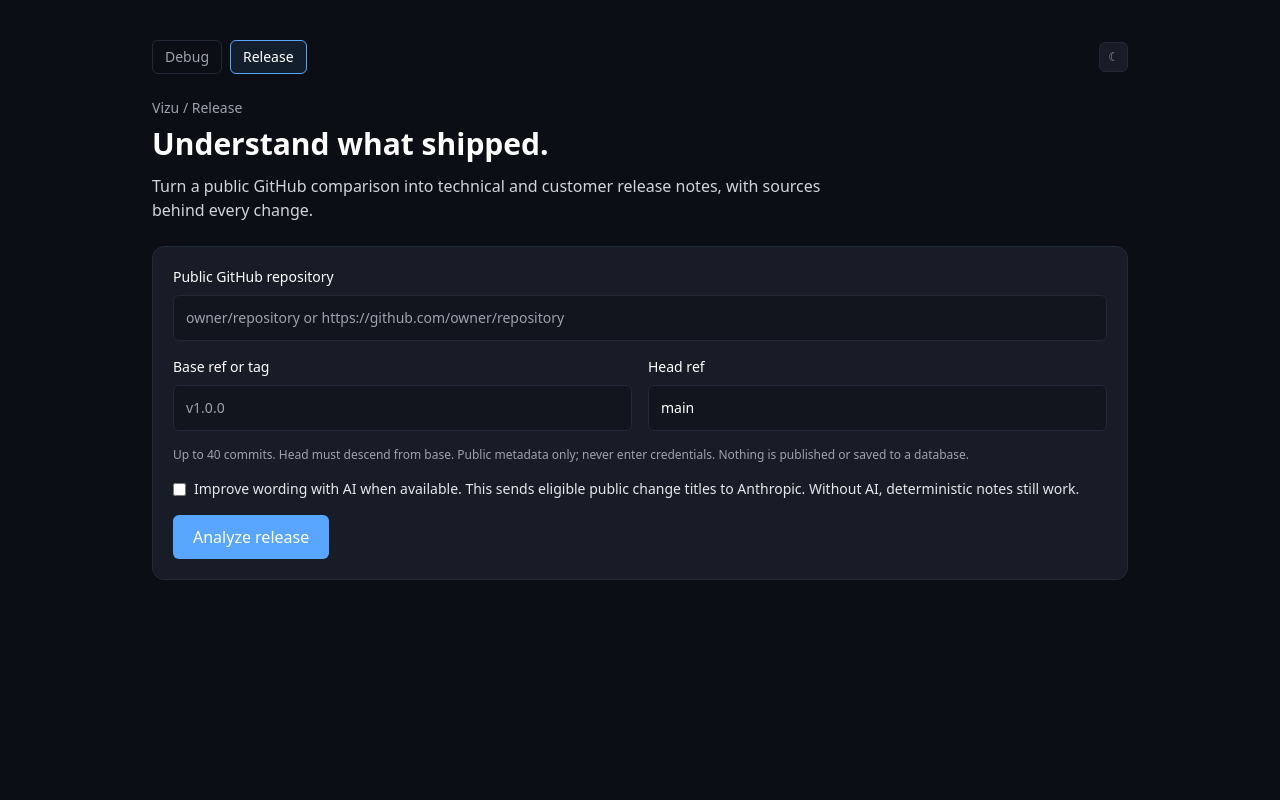
Test: Release interface › hides security details, surfaces warnings, and renders untrusted titles as text
This screenshot has width=1280, height=800.
In the field labelled "Public GitHub repository": (640, 318) [173, 295, 1107, 341], type "example/project"
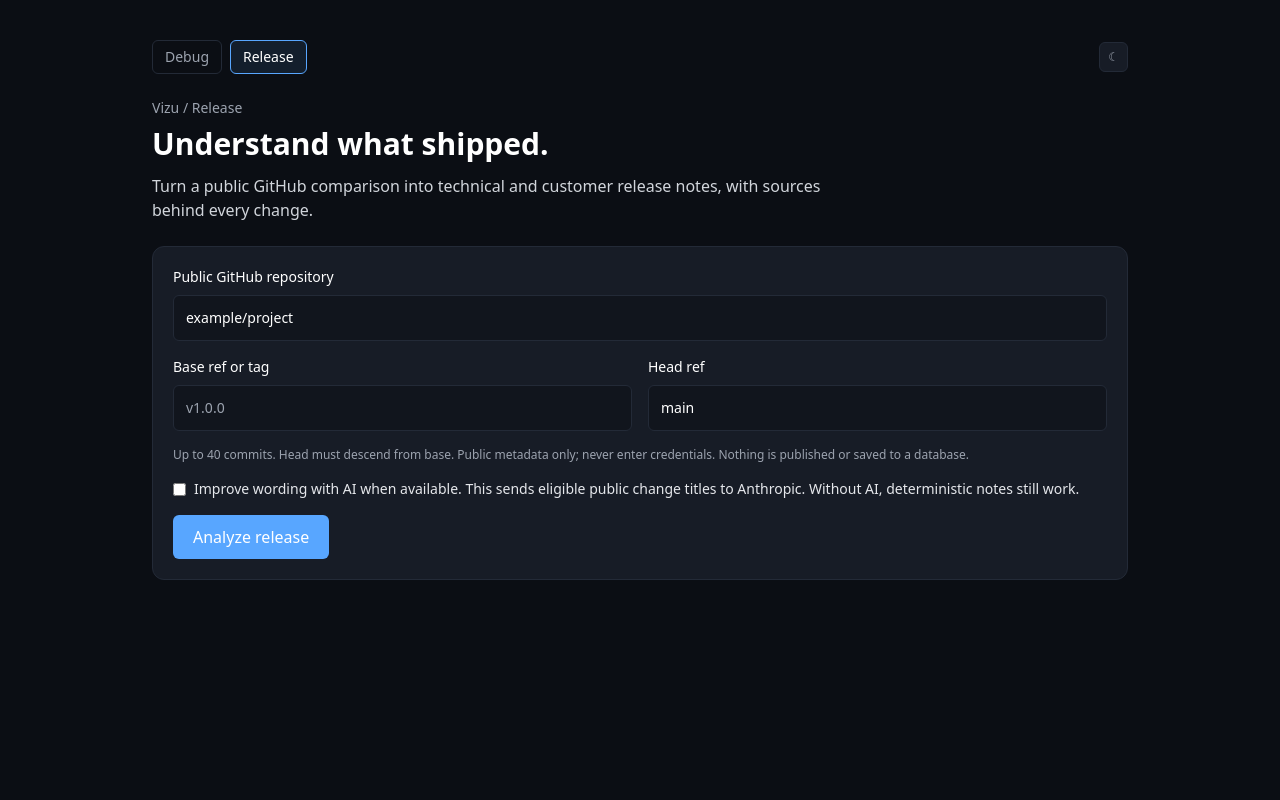
In the field labelled "Base ref or tag": (402, 408) [173, 385, 632, 431], type "v1"
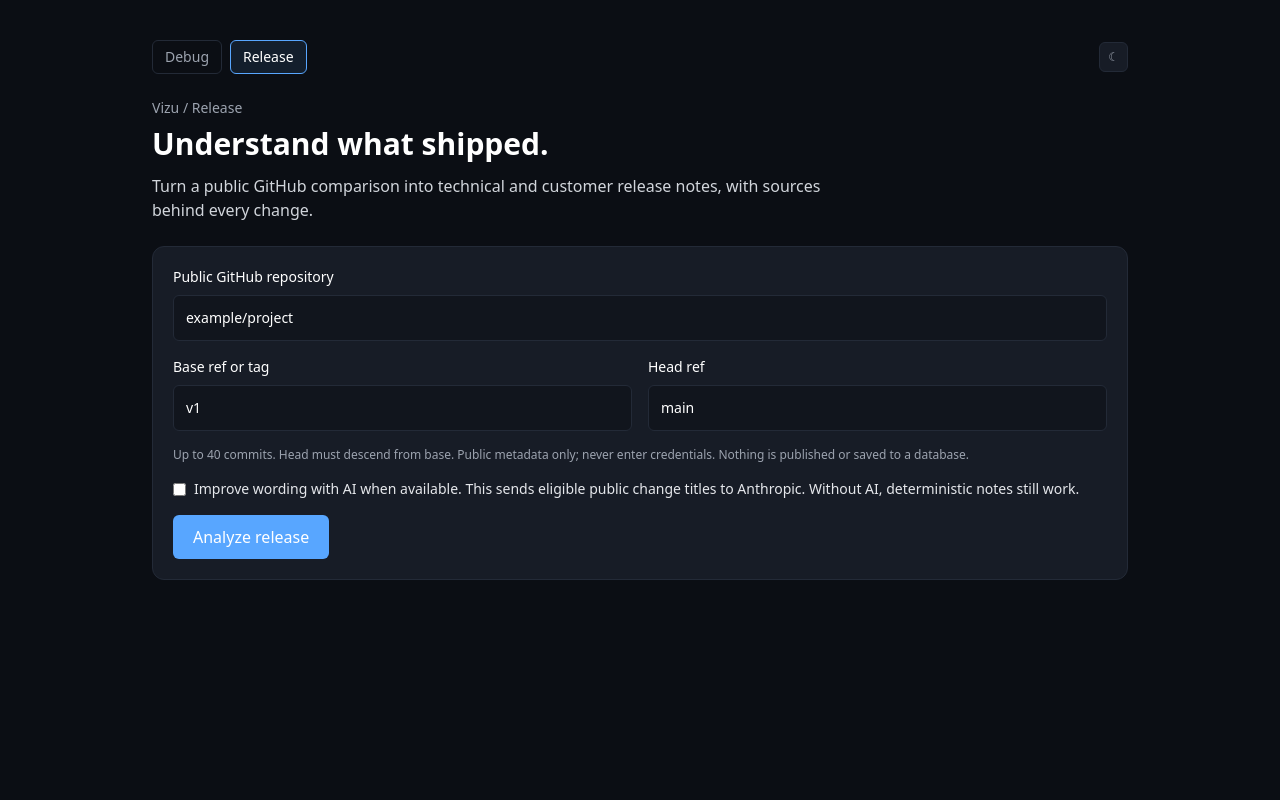
Click the button "Analyze release": (251, 537) [173, 515, 329, 559]
(page scrolled)
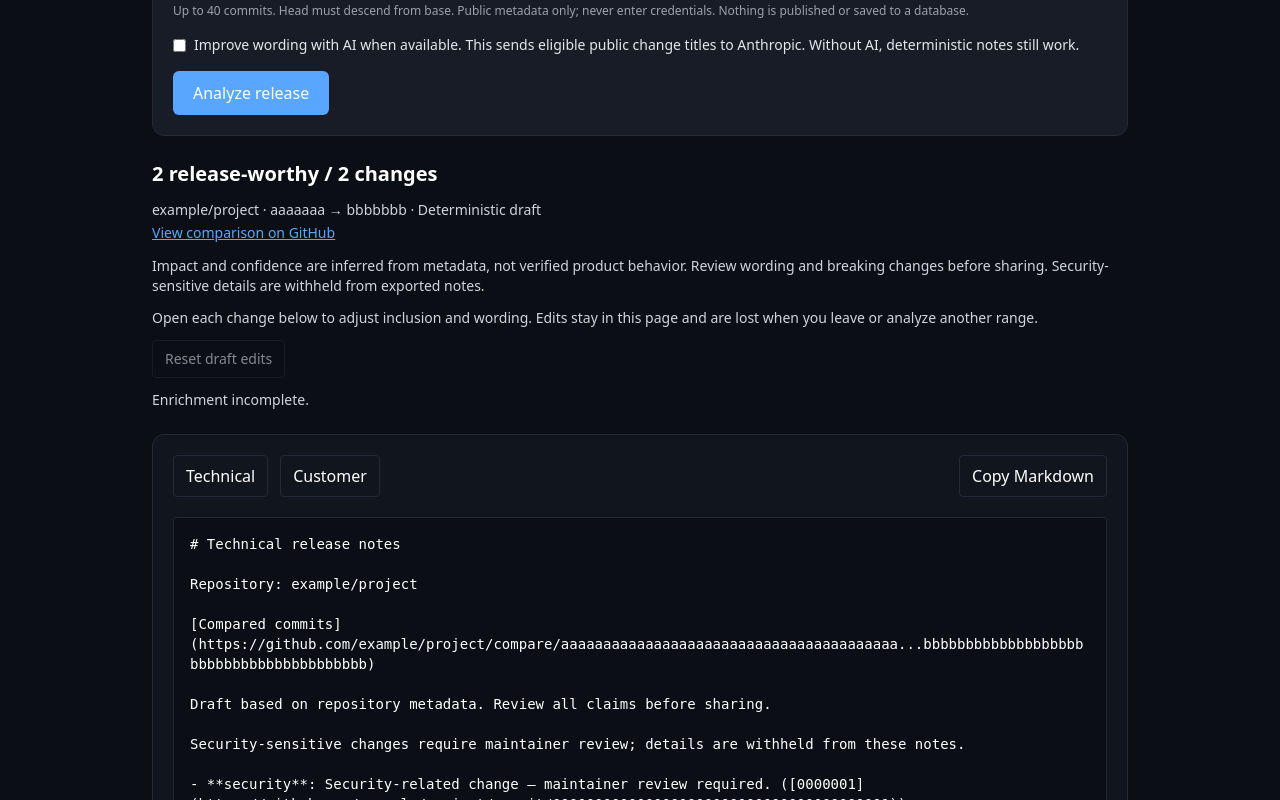
Expected: the text "Enrichment incomplete." is shown, [152, 390, 309, 409]
